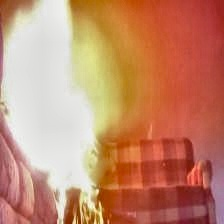fire: (1, 0, 120, 215)
